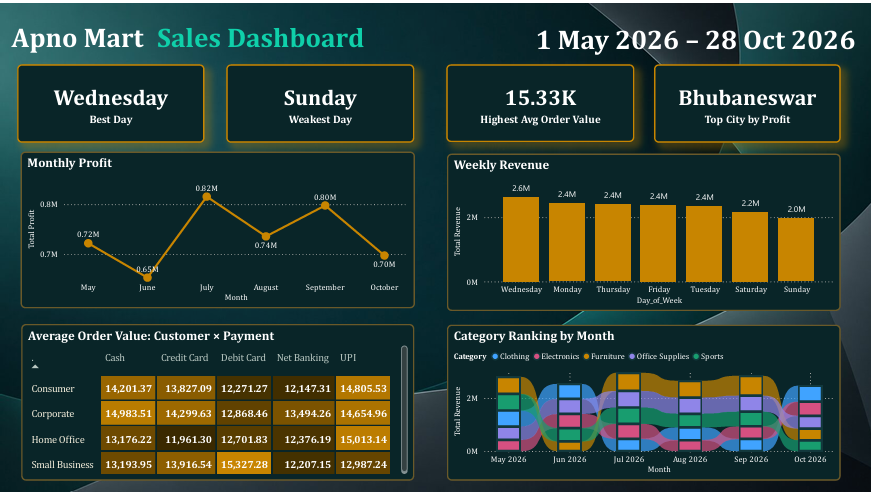

The dashboard page shown, as its layout file describes it:
{"tool":"powerbi","page":{"name":"Page 3","canvas":[1280,720],"ordinal":2},"visuals":[{"type":"card","fields":{"Values":["apnomart-sales-data.Best Day"]},"box":[23.8,88.8,275,115],"z":0},{"type":"card","fields":{"Values":["apnomart-sales-data.Weakest Day"]},"box":[331.4,88.6,275.7,115.7],"z":1000},{"type":"card","fields":{"Values":["apnomart-sales-data.Top City by Profit"]},"box":[958.6,88.6,274.3,115.7],"z":2000},{"type":"card","fields":{"Values":["apnomart-sales-data.Highest Avg Order Value"]},"box":[654.3,88.6,275.7,114.3],"z":3000},{"type":"pivotTable","title":"Average Order Value: Customer × Payment","fields":{"Values":["apnomart-sales-data.Average orders value"],"Rows":["apnomart-sales-data.Customer_Segment"],"Columns":["apnomart-sales-data.Payment_Method"]},"box":[30,470,577.1,230],"z":4000},{"type":"columnChart","title":"Weekly Revenue","fields":{"Category":["apnomart-sales-data.Day_of_Week"],"Y":["apnomart-sales-data.Total Revenue"]},"box":[654.7,220,578.7,230.7],"z":5000},{"type":"ribbonChart","title":"Category Ranking by Month","fields":{"Series":["apnomart-sales-data.Category"],"Category":["apnomart-sales-data.Month"],"Y":["apnomart-sales-data.Total Revenue"]},"box":[654.7,470.7,578,229.3],"z":6000},{"type":"lineChart","title":"Monthly Profit ","fields":{"Y":["apnomart-sales-data.Total Profit"],"Category":["apnomart-sales-data.Month.Variation.Date Hierarchy.Month"]},"box":[29.3,217.3,578.7,230],"z":7000},{"type":"textbox","title":"Apno Mart ","box":[10.6,25.8,213.6,50],"z":8000},{"type":"textbox","title":"Sales Dashboard","box":[224.2,25.8,333.3,50],"z":9000},{"type":"textbox","title":"1 May 2026 – 28 Oct 2026","box":[780,27.5,482.5,47.5],"z":10000}]}

Visuals, with their boxes in screenshot pixels (x1, y1, x2, y2), scaled from the page's 1280x720 canvas onto the 871x492 screenshot:
card - apnomart-sales-data.Best Day: 16 61 203 139
card - apnomart-sales-data.Weakest Day: 226 61 413 140
card - apnomart-sales-data.Top City by Profit: 652 61 839 140
card - apnomart-sales-data.Highest Avg Order Value: 445 61 633 139
"Average Order Value: Customer × Payment" pivotTable: 20 321 413 478
"Weekly Revenue" columnChart: 446 150 839 308
"Category Ranking by Month" ribbonChart: 446 322 839 478
"Monthly Profit " lineChart: 20 148 414 306
"Apno Mart " textbox: 7 18 153 52
"Sales Dashboard" textbox: 153 18 379 52
"1 May 2026 – 28 Oct 2026" textbox: 531 19 859 51
